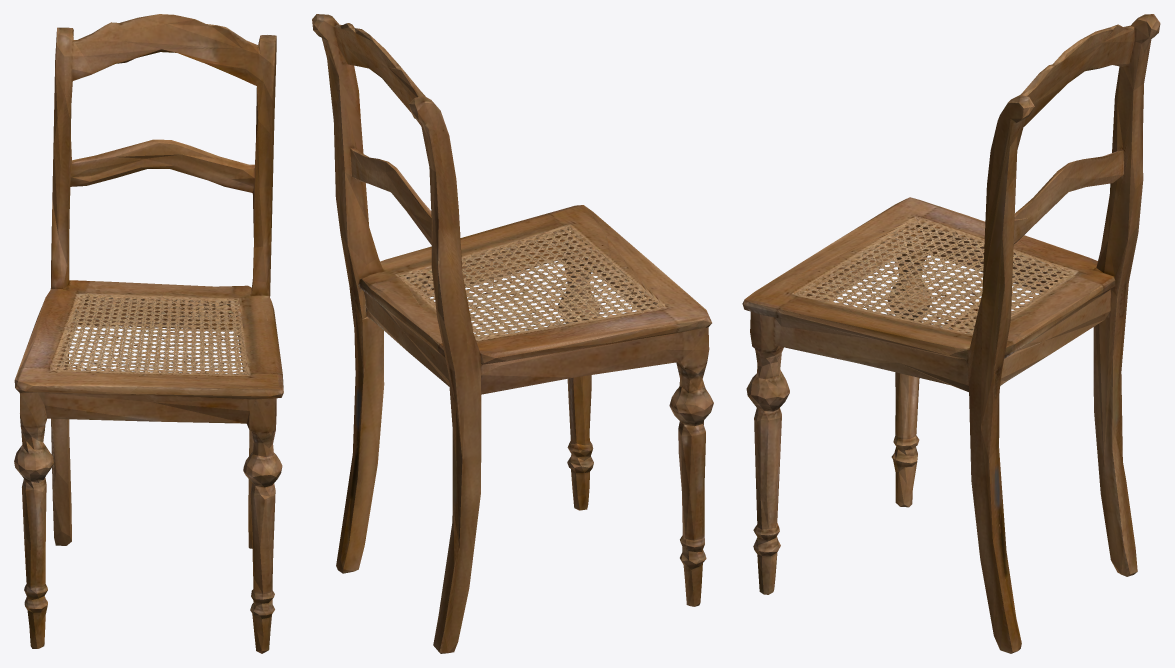
File: EB5519EC-A90F-C542-8F04-0BFF89AE356B_512.glb
3 views of the same model, side by side, from view 1: azimuth 30°, elevation 25°; view 2: azimuth 150°, elevation 25°; view 3: azimuth 270°, elevation 25° (orthographic). The views are drawn at different scales.
Parts seen in each view (by area): view 1: Stuhlgeflecht_38k_1k; view 2: Stuhlgeflecht_38k_1k; view 3: Stuhlgeflecht_38k_1k.
Part boxes in pixels (box(x1,y1,x2,y2)): Stuhlgeflecht_38k_1k: box(14, 14, 283, 653); Stuhlgeflecht_38k_1k: box(312, 14, 713, 653); Stuhlgeflecht_38k_1k: box(742, 14, 1160, 653).
Bounding box in the file's own units: 0.5677 × 0.9086 × 0.5906.
Materials: 1 (1 with a texture image).
